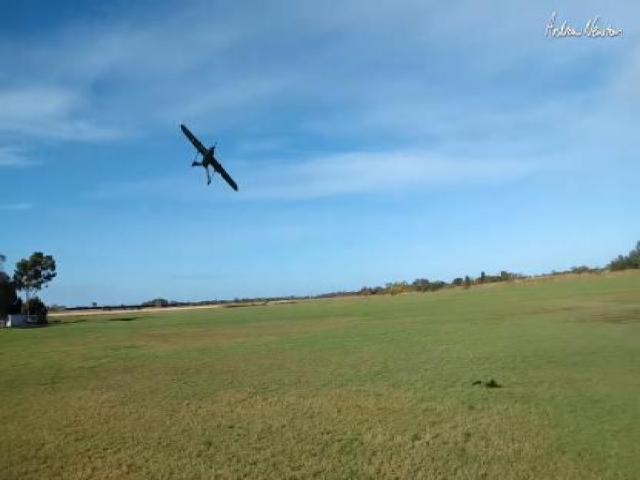uav: (172, 116, 245, 198)
